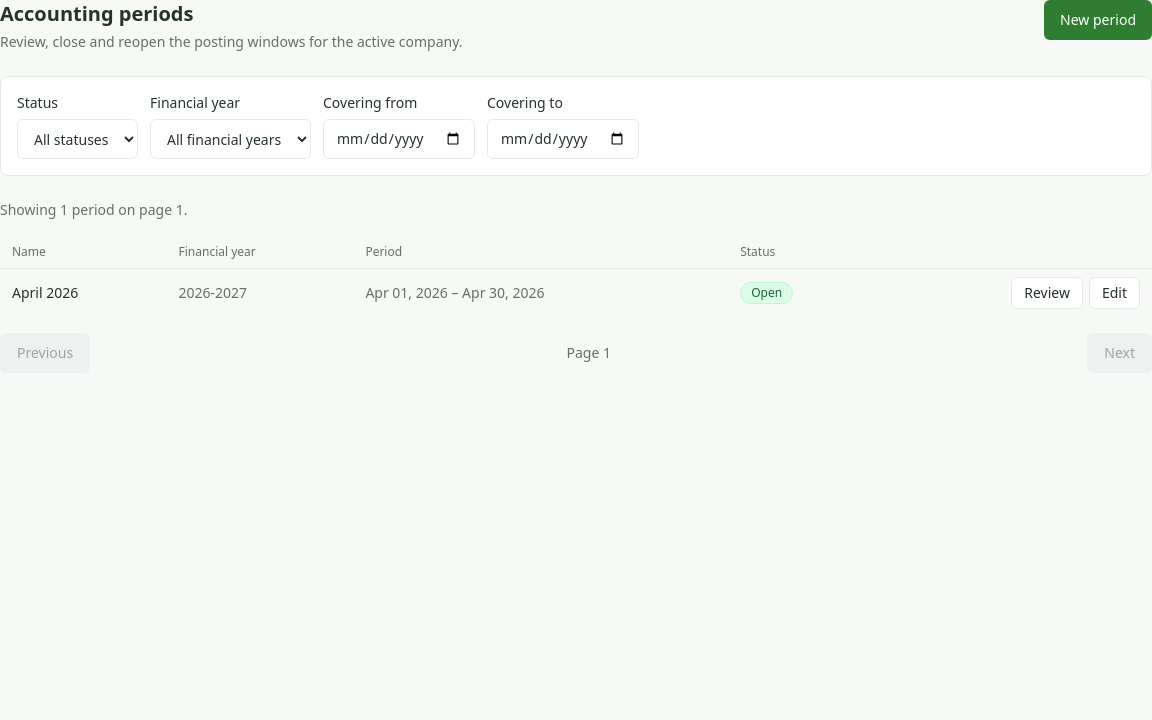
Test: PeriodsView › opens the closing review and shows a ready verdict
The image size is (1152, 720).
Click the button "Review". click: point(1047, 293)
box: [1011,277,1083,309]
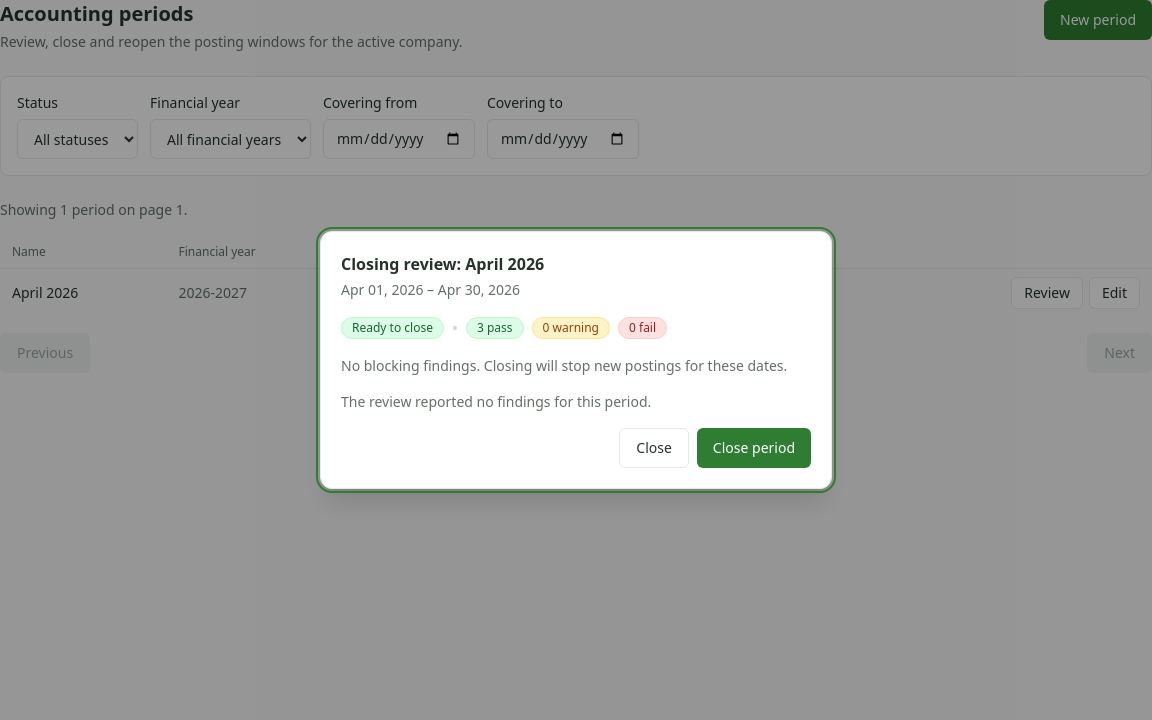
Result: the dialog "Closing review: April 2026" is shown at [320,231,832,489]
Result: the text "Ready to close" is shown at [341,317,444,339]
Result: the button "Close period" is shown at [697,428,811,468]
